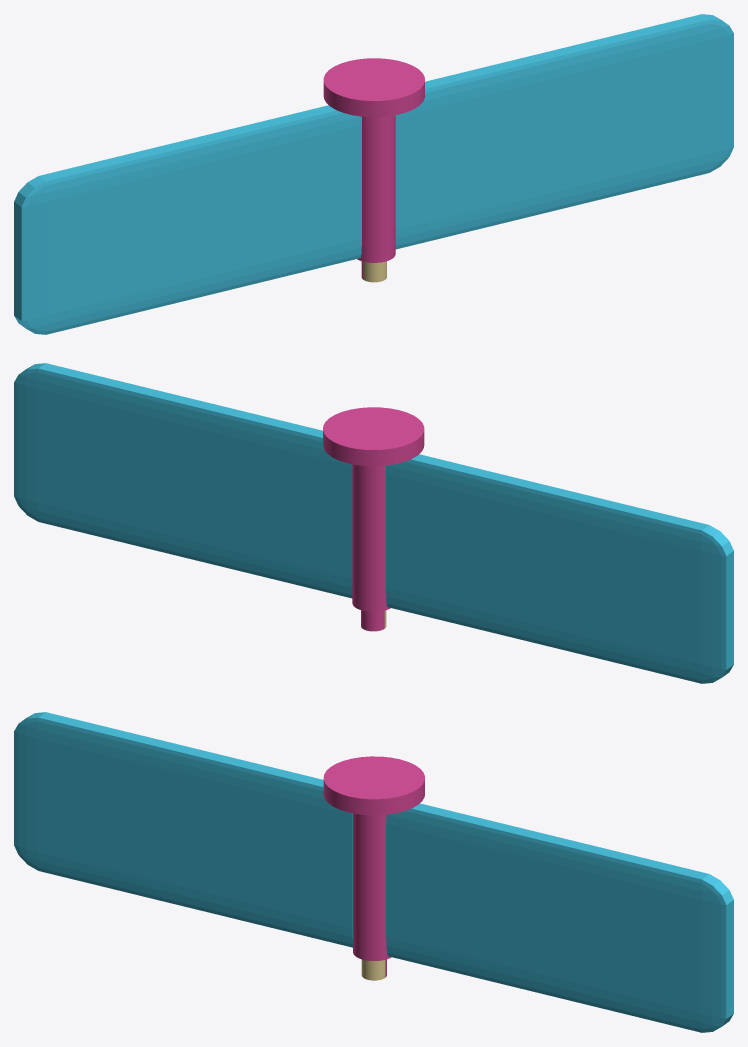
Rendered from 1obstacle.fbx.
3 renders of one model, top to bottom at view 1: azimuth 30°, elevation 25°; view 2: azimuth 150°, elevation 25°; view 3: azimuth 330°, elevation 25°, orthographic.
Parts seen in each view (by area): view 1: Cube, Cylinder.003; view 2: Cube, Cylinder.003; view 3: Cube, Cylinder.003.
Boxes of the visible parts, x1=… form: Cube: x1=14, y1=14, x2=733, y2=334; Cylinder.003: x1=323, y1=58, x2=424, y2=282; Cube: x1=14, y1=363, x2=733, y2=683; Cylinder.003: x1=323, y1=407, x2=424, y2=631; Cube: x1=14, y1=712, x2=733, y2=1032; Cylinder.003: x1=323, y1=756, x2=424, y2=980.
Bounding box in the file's own units: 37.99 × 10.06 × 4.69.
